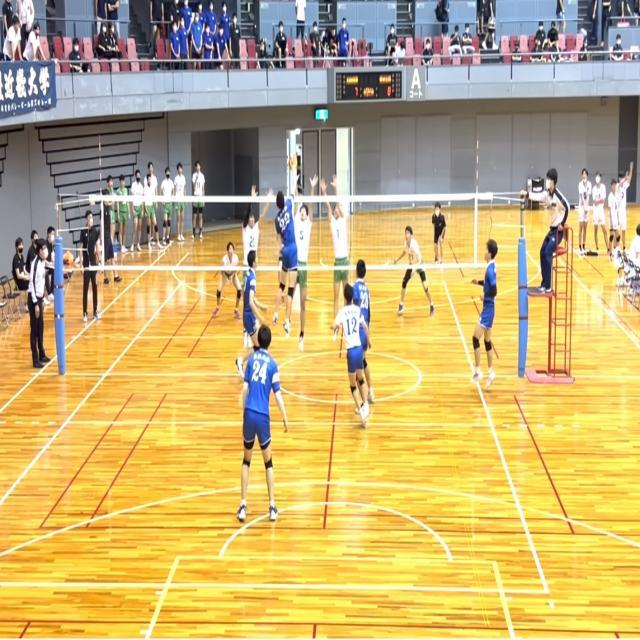spike: (270, 150, 302, 344)
